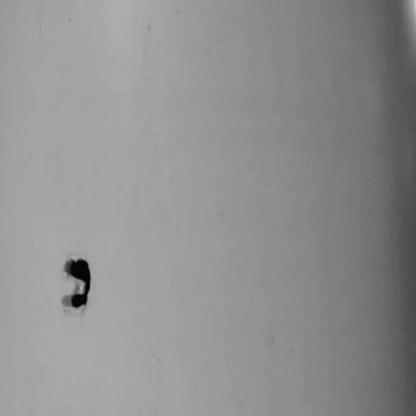kongdong: (58, 249, 96, 314)
